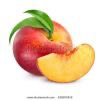Peach leaf: (8, 17, 49, 45), (24, 8, 53, 35)
